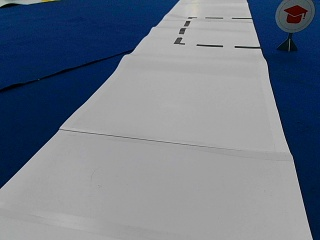school: (275, 1, 314, 31)
